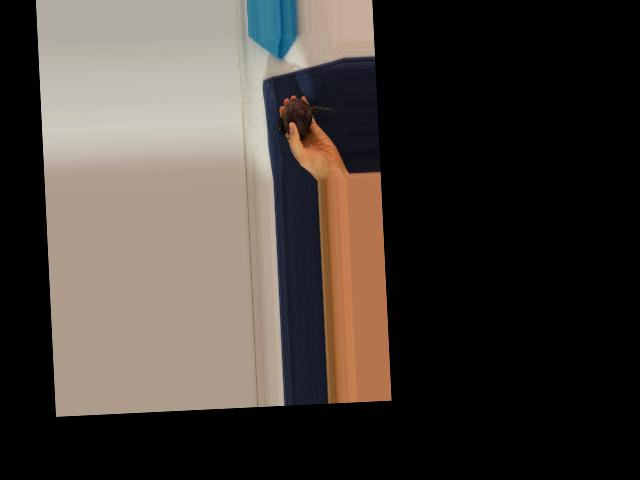beet: (277, 96, 336, 139)
